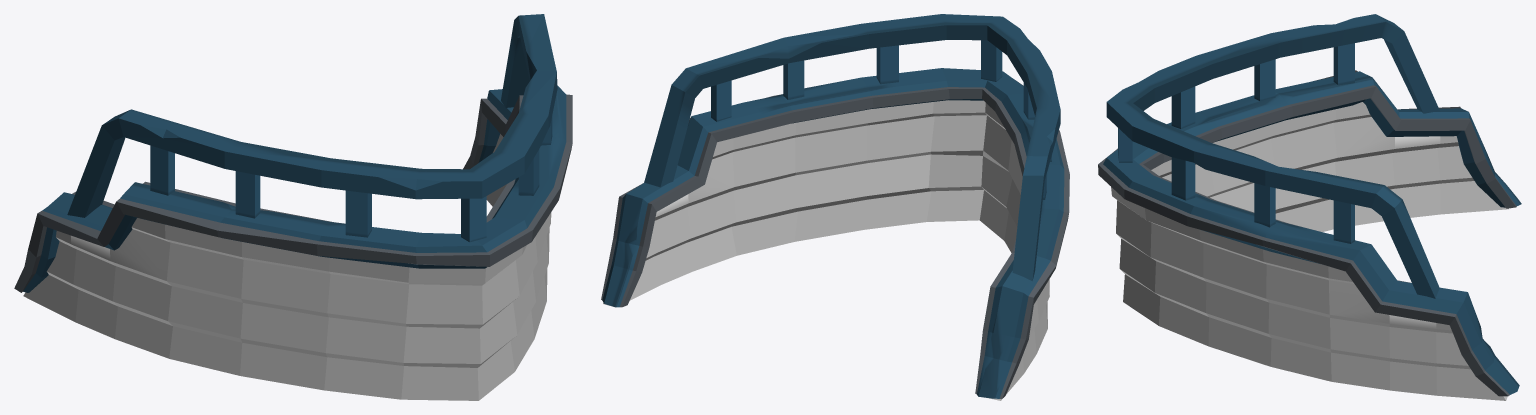
File: SM_Veh_Ship_S_Front_01.fbx
3 views of the same model, side by side, from view 1: azimuth 30°, elevation 25°; view 2: azimuth 150°, elevation 25°; view 3: azimuth 270°, elevation 25° (orthographic). The views are drawn at different scales.
Visible parts, largest first — view 1: SM_Veh_Ship_S_Front_01; view 2: SM_Veh_Ship_S_Front_01; view 3: SM_Veh_Ship_S_Front_01.
Boxes of the visible parts, x1,y1,x2,y2 form: SM_Veh_Ship_S_Front_01: (14,14,572,400); SM_Veh_Ship_S_Front_01: (601,14,1069,400); SM_Veh_Ship_S_Front_01: (1098,14,1521,400).
Bounding box in the file's own units: 473 × 211 × 408.
